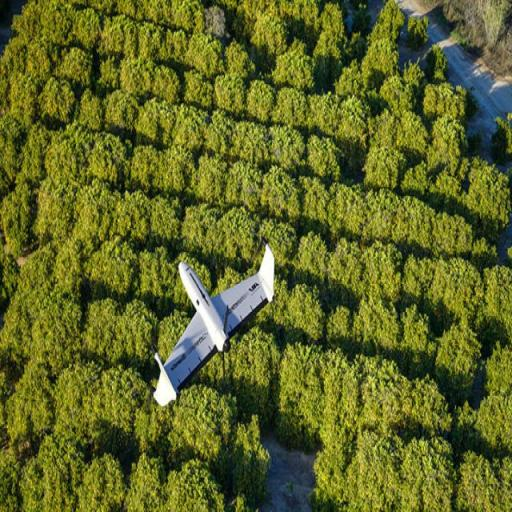uav: (148, 220, 290, 415)
